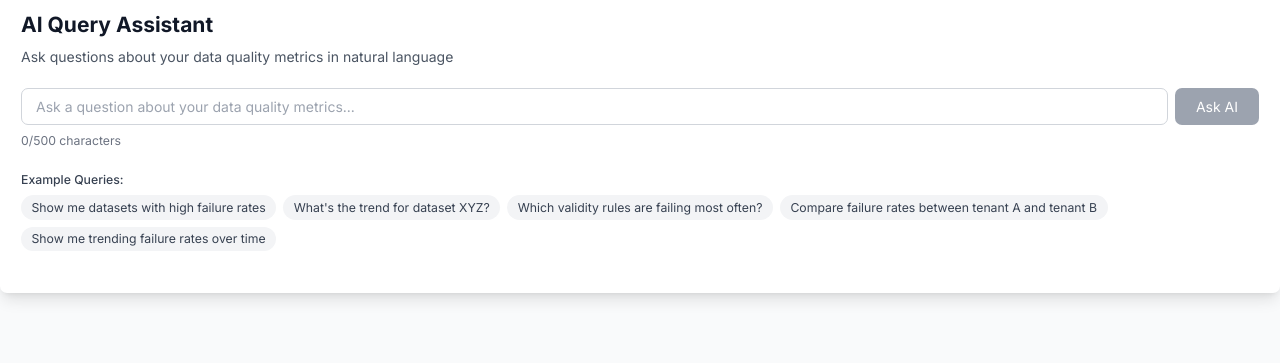
AIQuerySection › displays error message on API failure
Type "Show me datasets" into the field with placeholder "Ask a question about your data quality metrics..." at {"x": 594, "y": 106}, box [21, 88, 1168, 125]
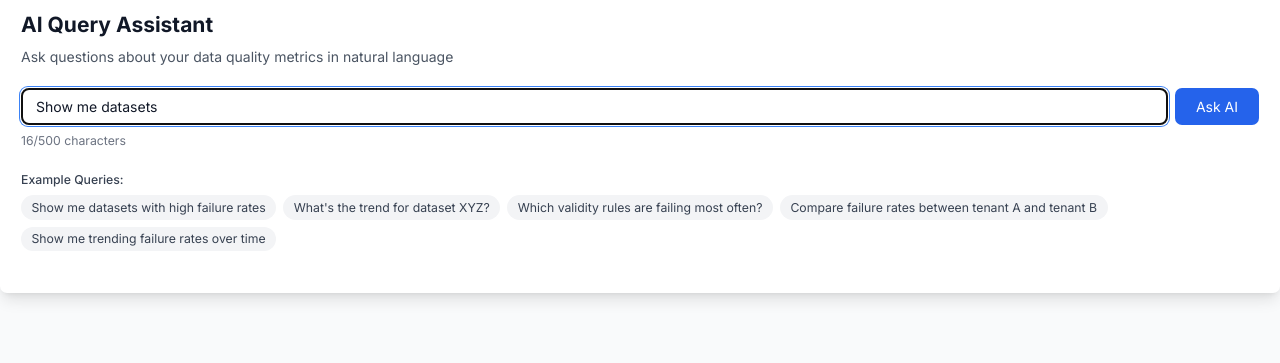
Click the button "Ask AI" at {"x": 1217, "y": 106}, box [1175, 88, 1259, 125]
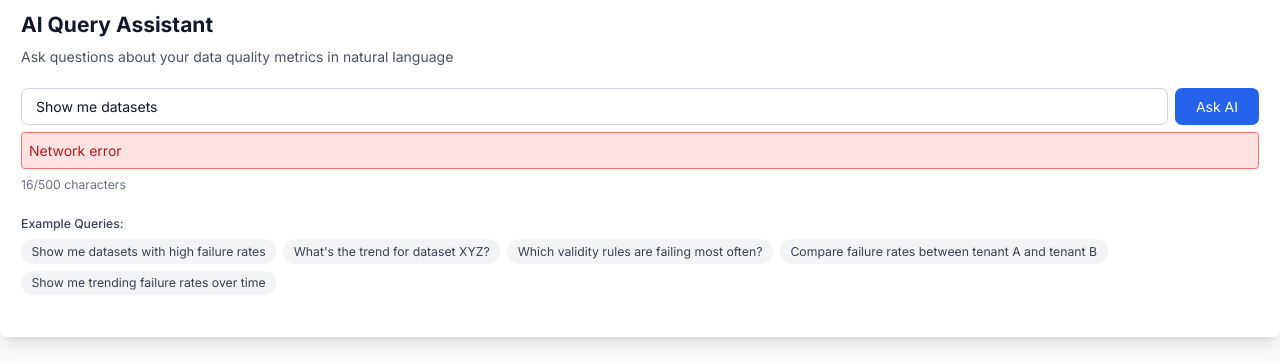
Expected: the text "Network error" is shown, [21, 132, 1259, 169]
